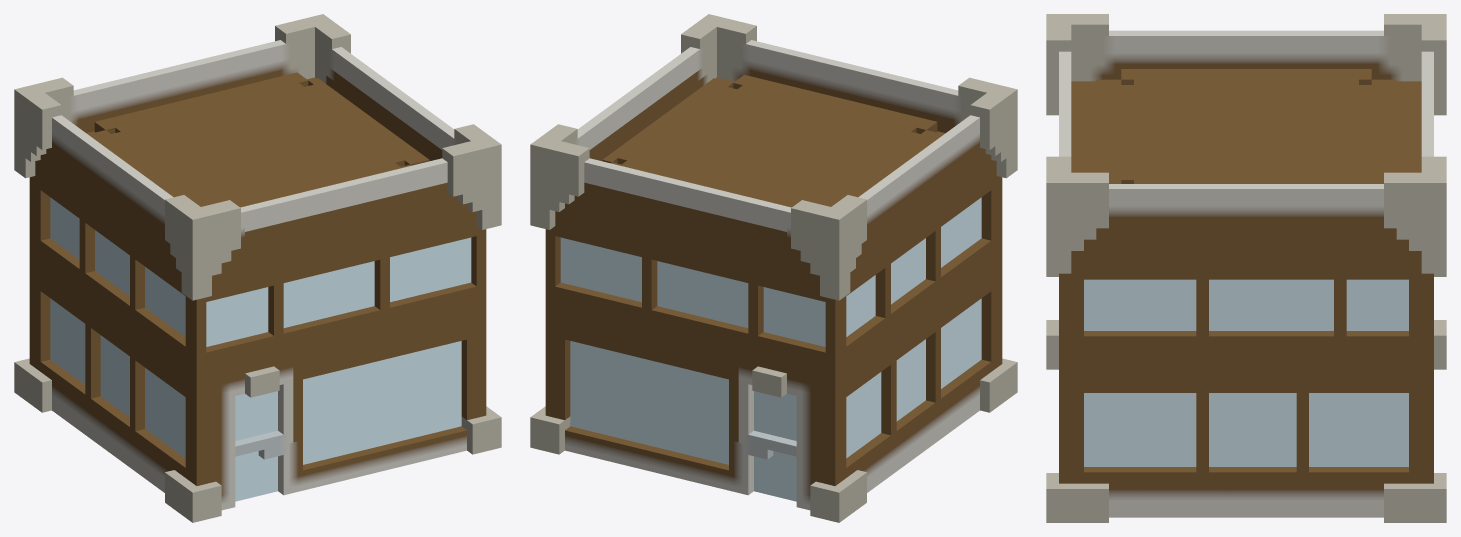
File: Building2.dae
3 renders of one model, left to right at view 1: azimuth 30°, elevation 25°; view 2: azimuth 150°, elevation 25°; view 3: azimuth 270°, elevation 25°, orthographic. The views are drawn at different scales.
Parts seen in each view (by area): view 1: Building1; view 2: Building1; view 3: Building1.
Part boxes in pixels (x1,y1,x2,y2): Building1: (14, 14, 501, 522); Building1: (530, 14, 1017, 522); Building1: (1046, 14, 1446, 522).
Size of the model in its own units: 32 by 30 by 32.
Materials: 1 (1 with a texture image).
